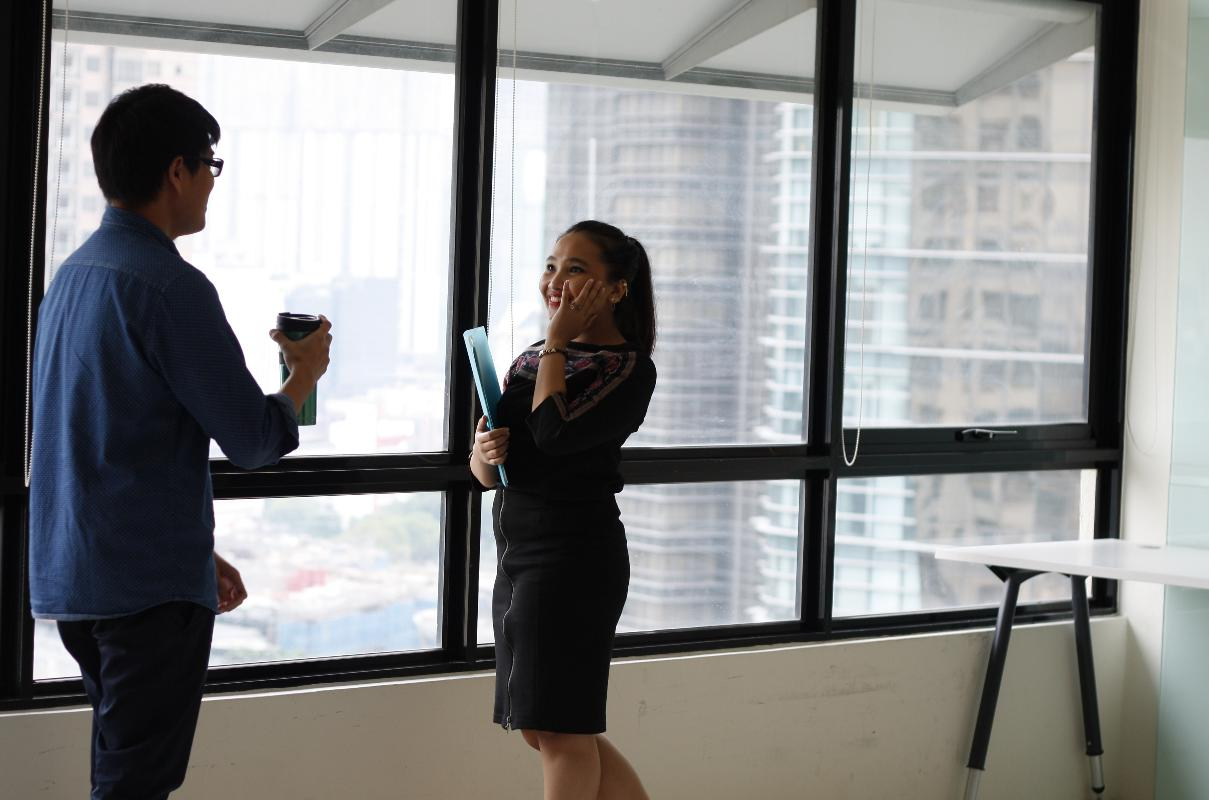Person: (24, 80, 337, 800), (457, 220, 665, 800)
